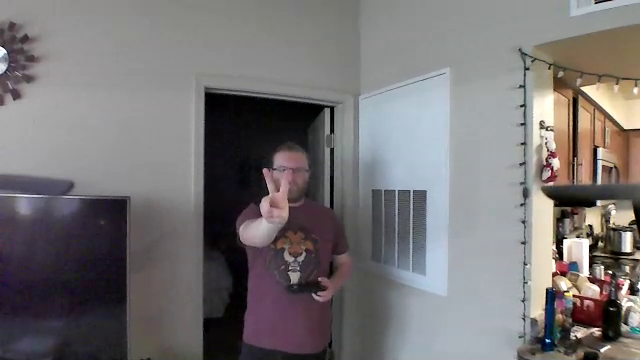peace: (255, 164, 293, 225)
